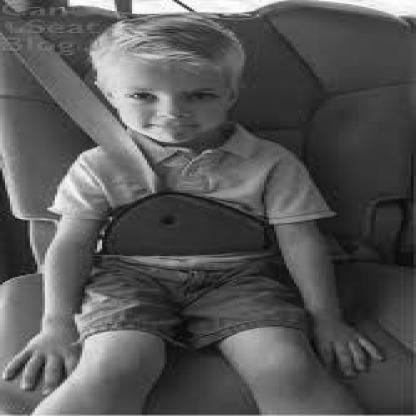seatbelt: (28, 5, 284, 266)
